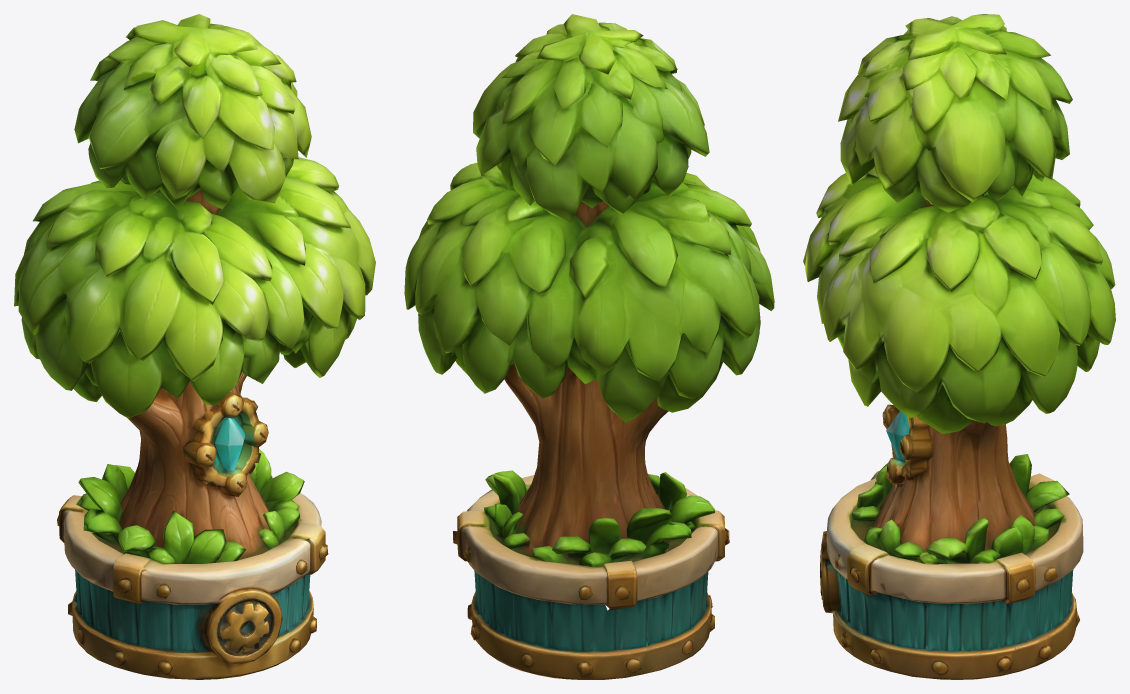
The model's file is X_TreeB_HD.glb.
3 renders of one model, left to right at view 1: azimuth 30°, elevation 25°; view 2: azimuth 150°, elevation 25°; view 3: azimuth 270°, elevation 25°, orthographic.
Parts seen in each view (by area): view 1: tripo_node_4be3fbe6-2a95-4236-97c9-b9465bd23749; view 2: tripo_node_4be3fbe6-2a95-4236-97c9-b9465bd23749; view 3: tripo_node_4be3fbe6-2a95-4236-97c9-b9465bd23749.
Boxes of the visible parts, left/top/right/bottom form: tripo_node_4be3fbe6-2a95-4236-97c9-b9465bd23749: left=14, top=14, right=375, bottom=679; tripo_node_4be3fbe6-2a95-4236-97c9-b9465bd23749: left=404, top=14, right=774, bottom=679; tripo_node_4be3fbe6-2a95-4236-97c9-b9465bd23749: left=803, top=14, right=1115, bottom=679.
Bounding box in the file's own units: 0.5586 × 0.9791 × 0.4582.
Materials: 1 (1 with a texture image).
